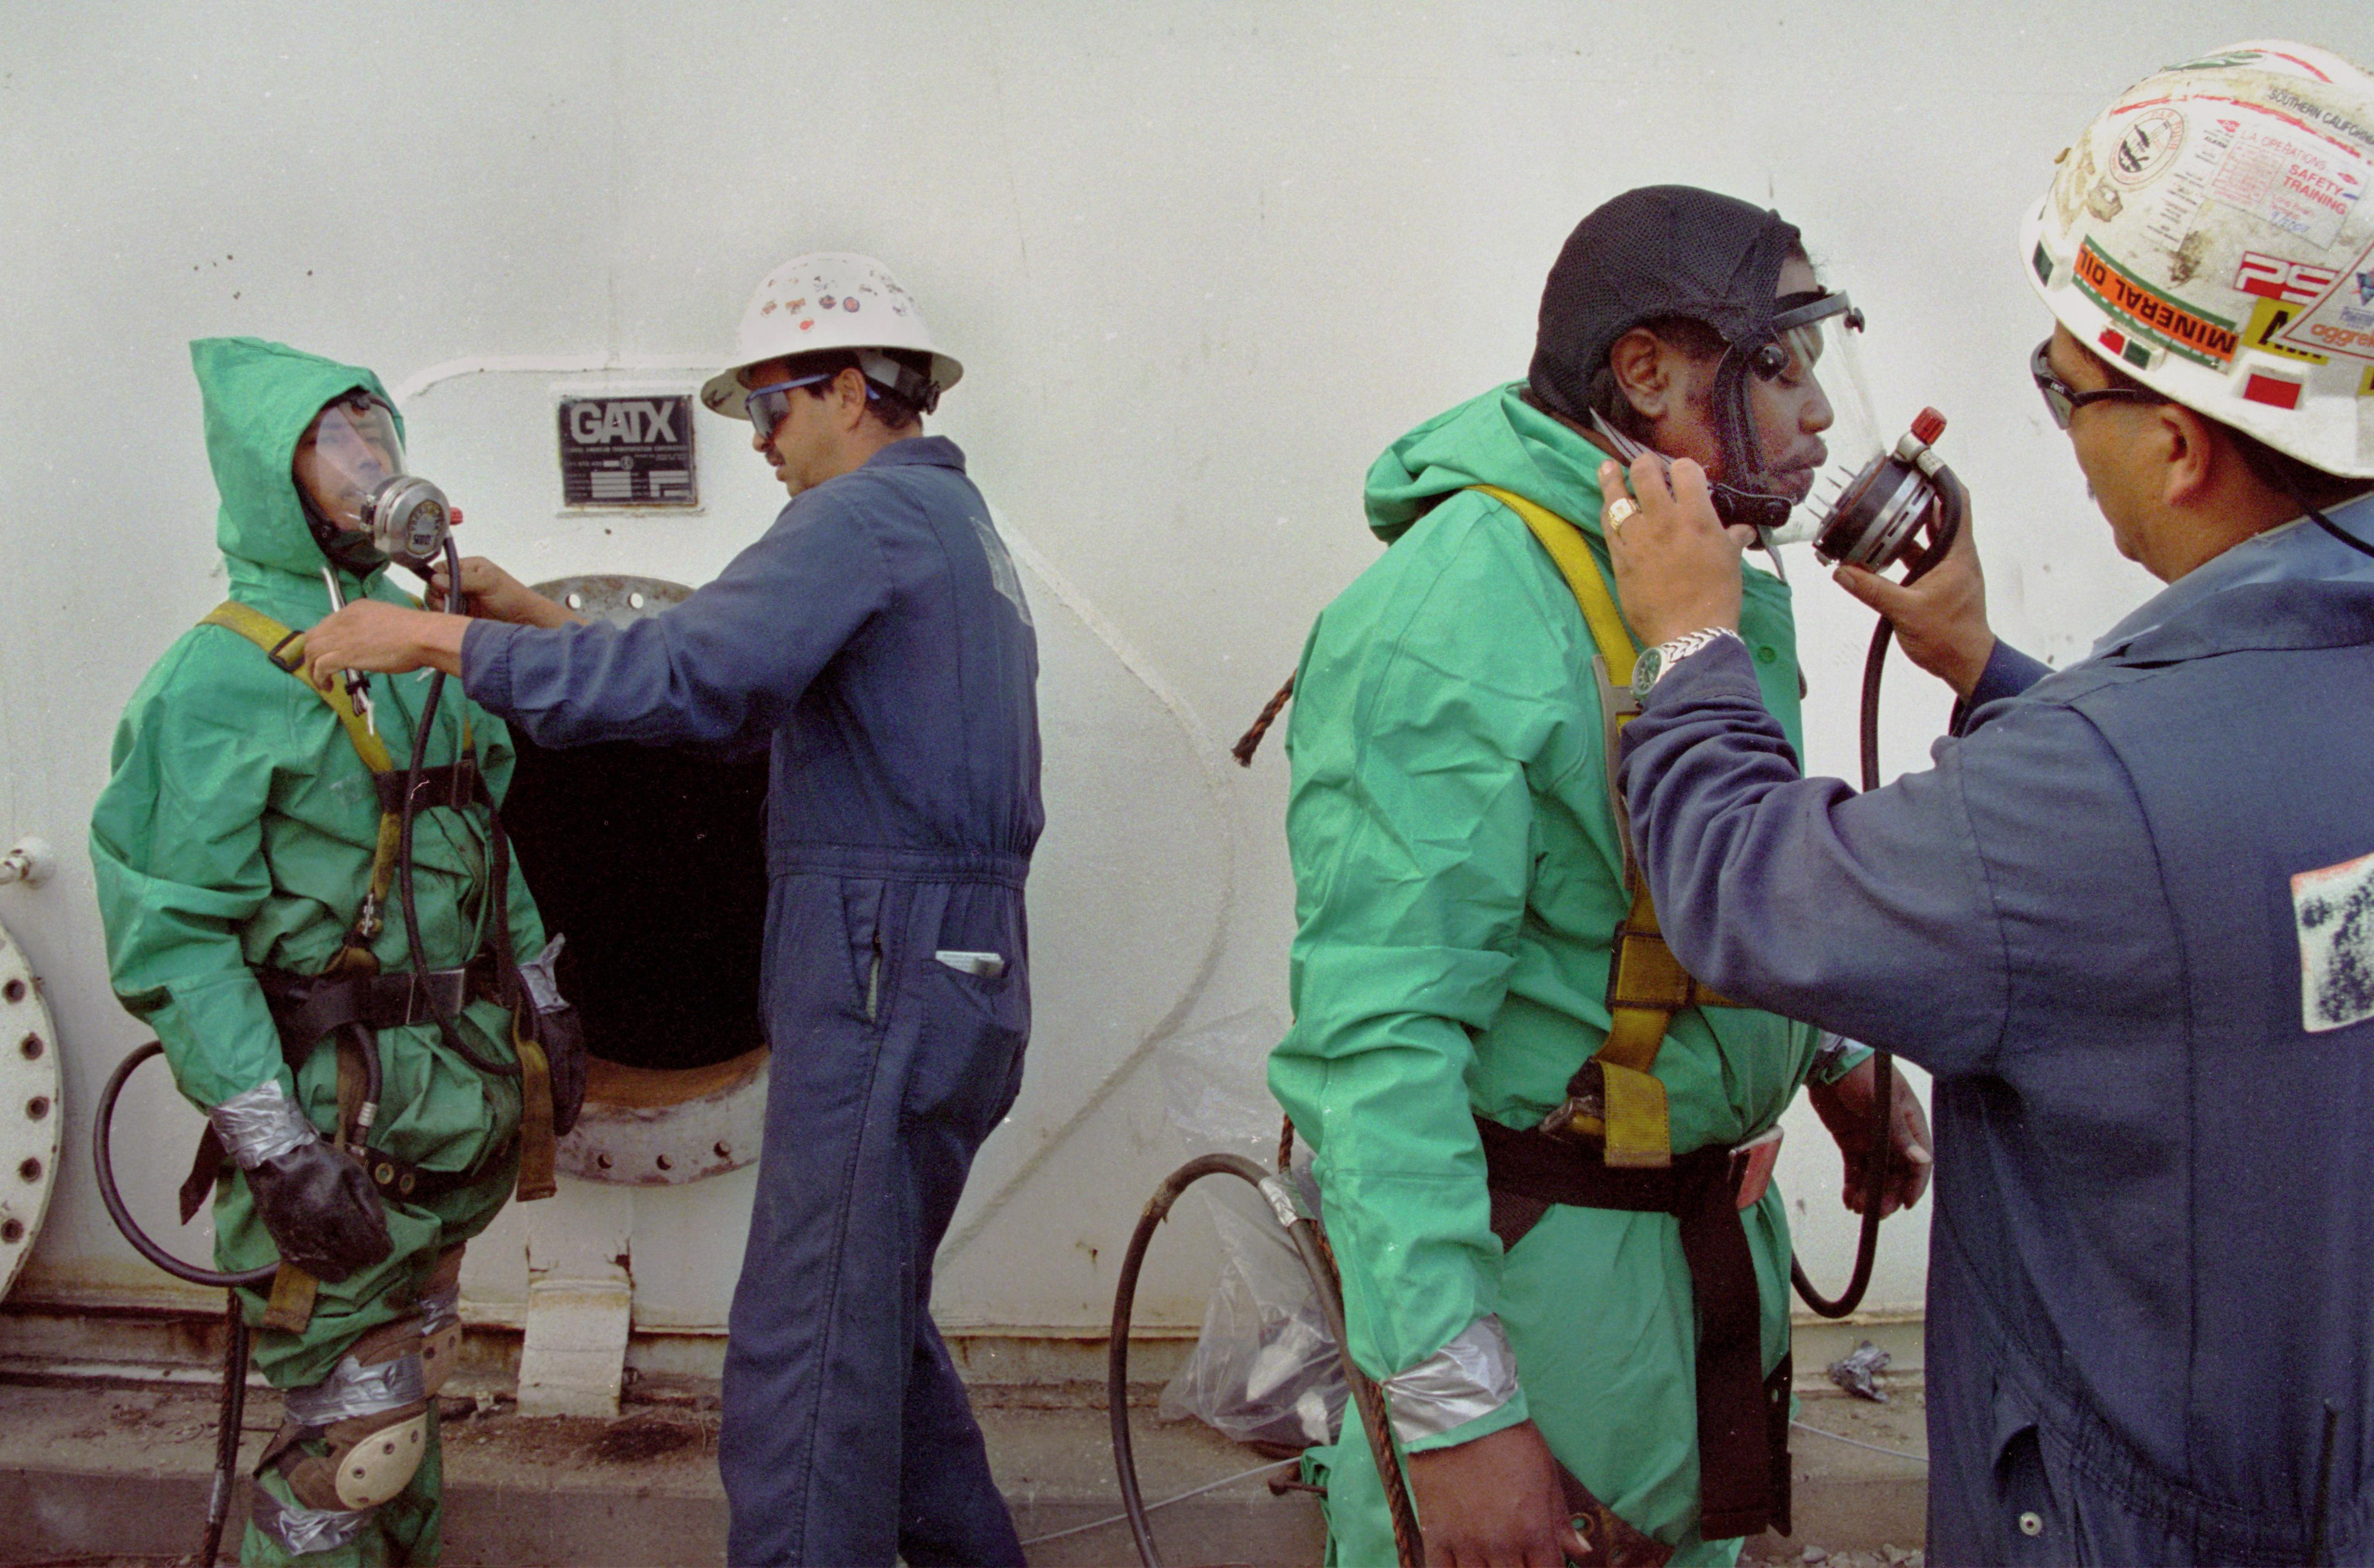helmet: (2019, 38, 2374, 486), (698, 247, 967, 430)
